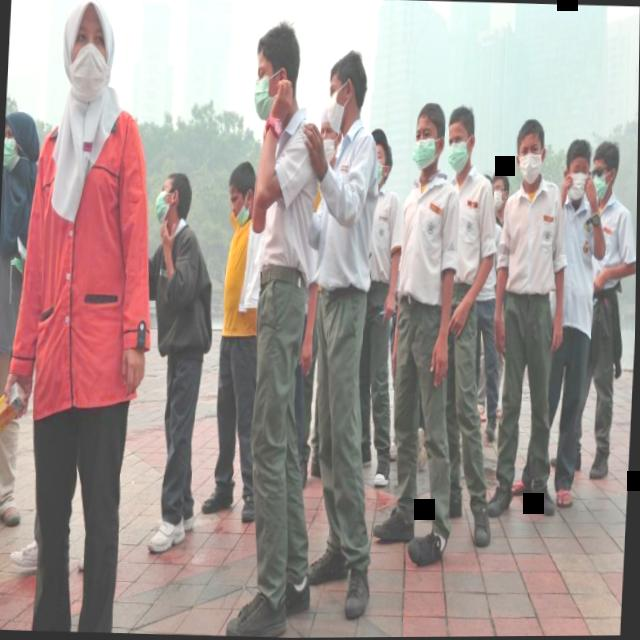Mask: (245, 11, 303, 131), (57, 0, 117, 110), (320, 40, 370, 141), (509, 110, 550, 193), (409, 92, 447, 177), (149, 165, 190, 234), (445, 98, 479, 181), (223, 157, 258, 230), (588, 133, 622, 208), (559, 132, 593, 207), (3, 106, 35, 178), (487, 164, 511, 216)
